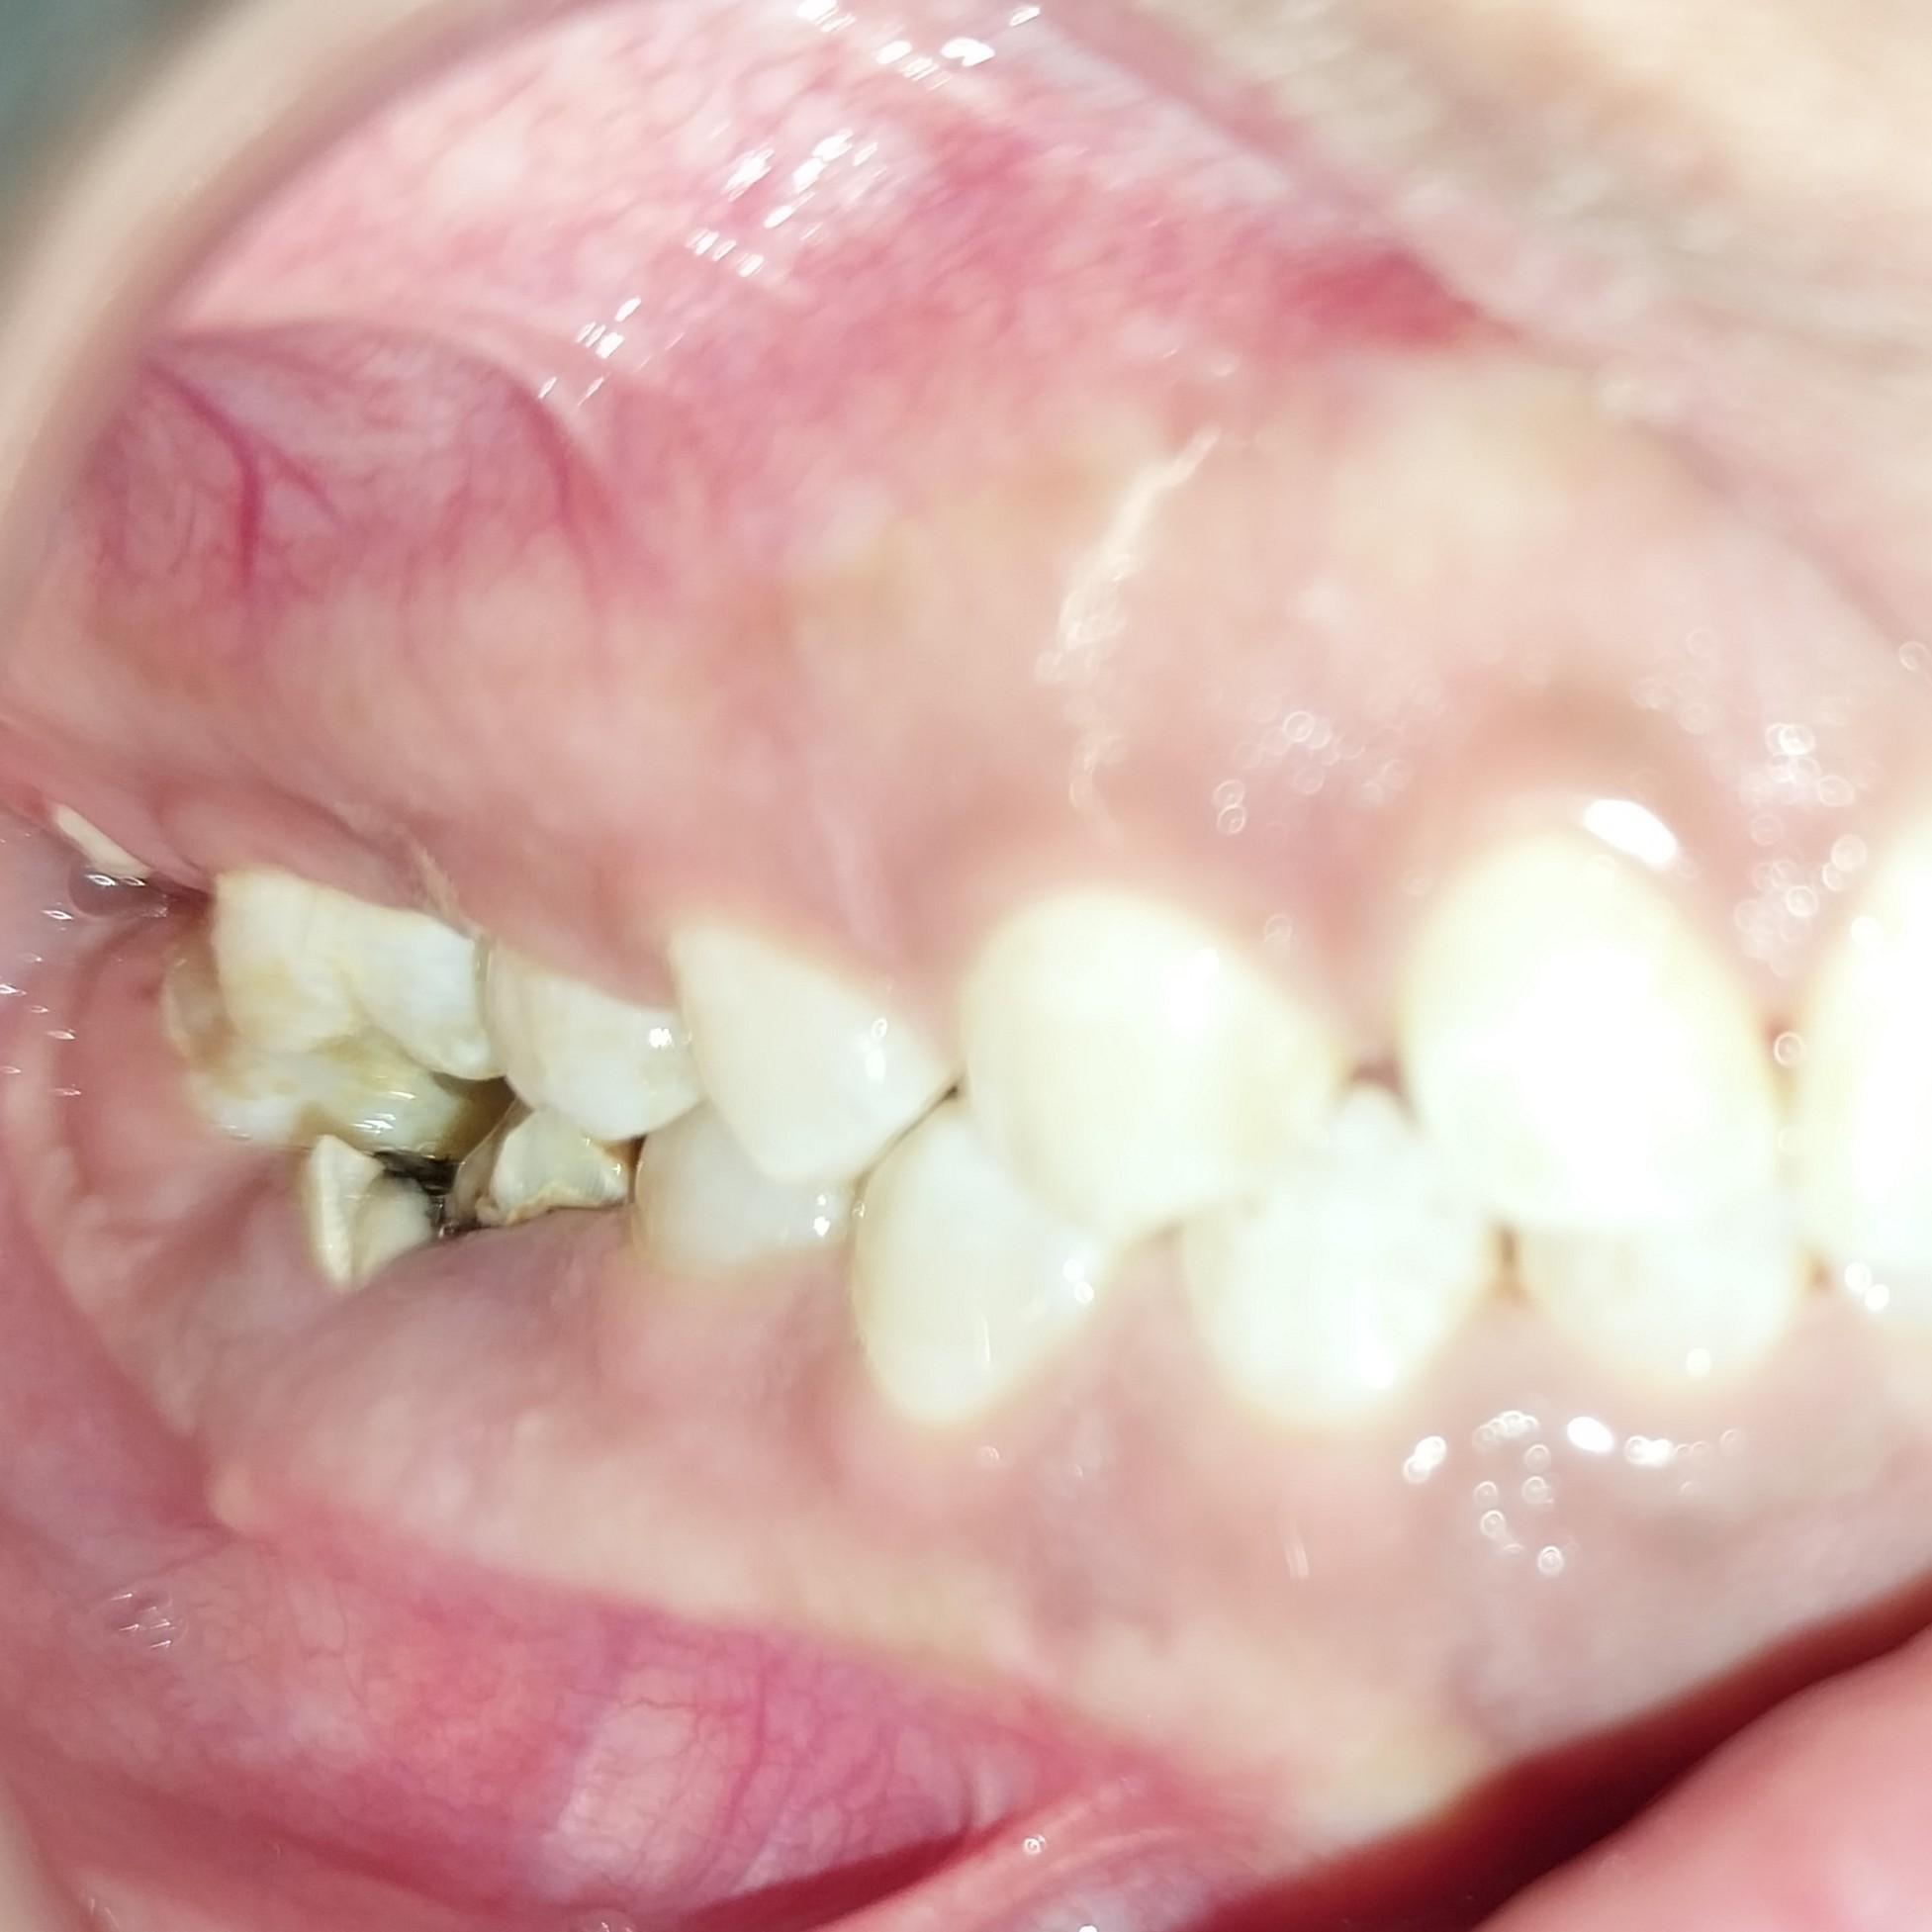D: (311, 1113, 570, 1313)
